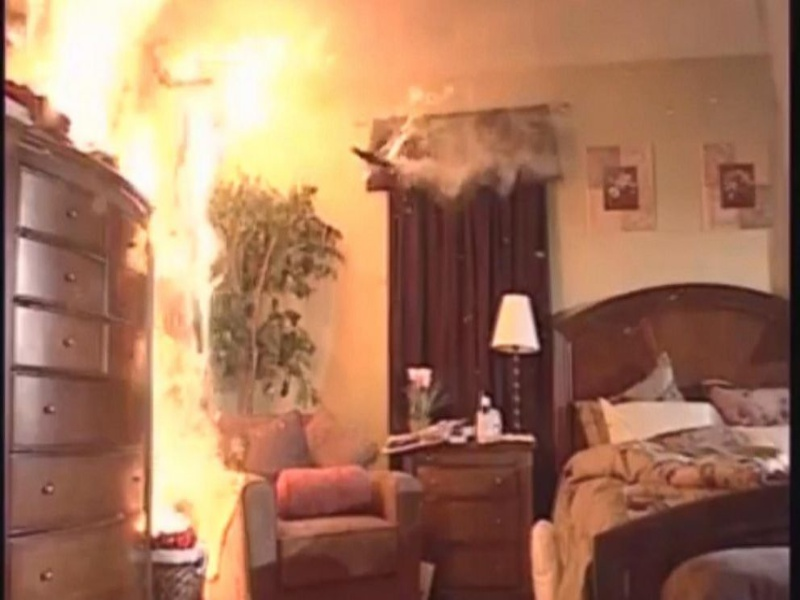fire: (127, 79, 218, 528), (39, 16, 140, 126)
